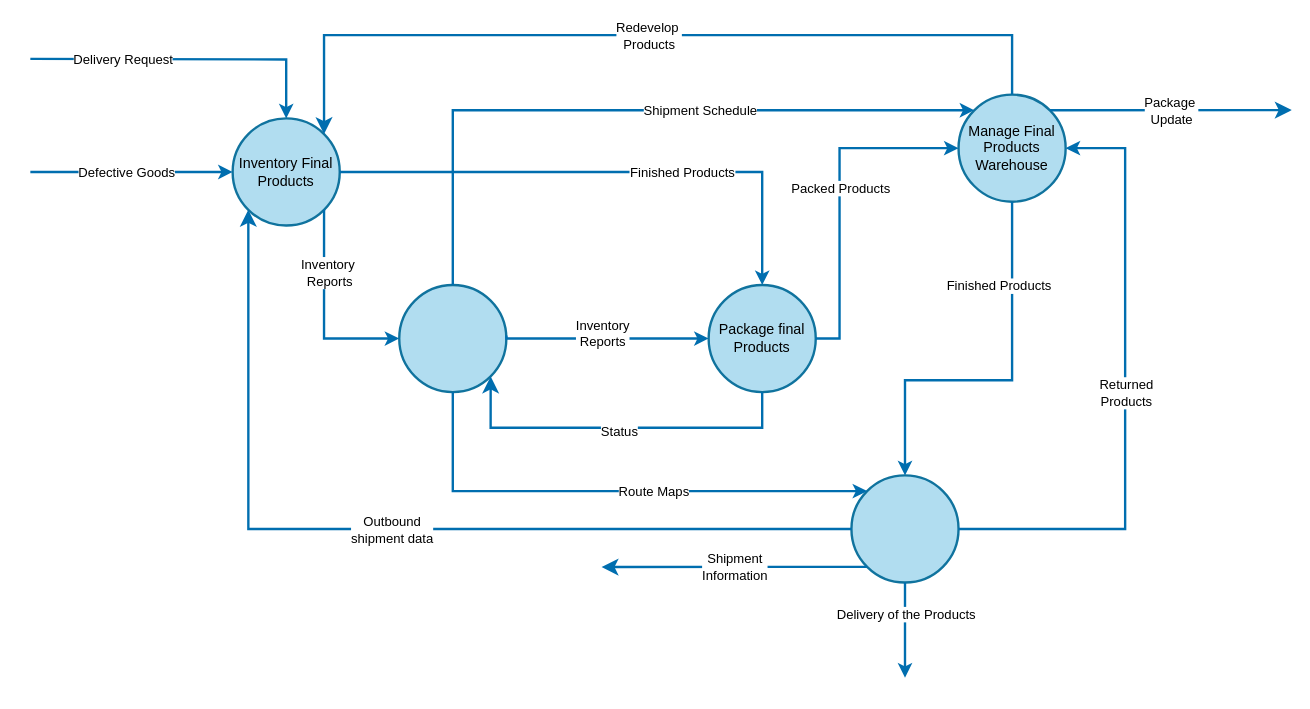
Image size: 1310x709. Some labels were removed from this diagram. The centre of each missing label's shape, as x and y in pixels:
"Deliver Products" belongs at [904,528].
"Schedule Shipping" belongs at [452,338].
